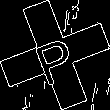P_N: (29, 25, 81, 85)
